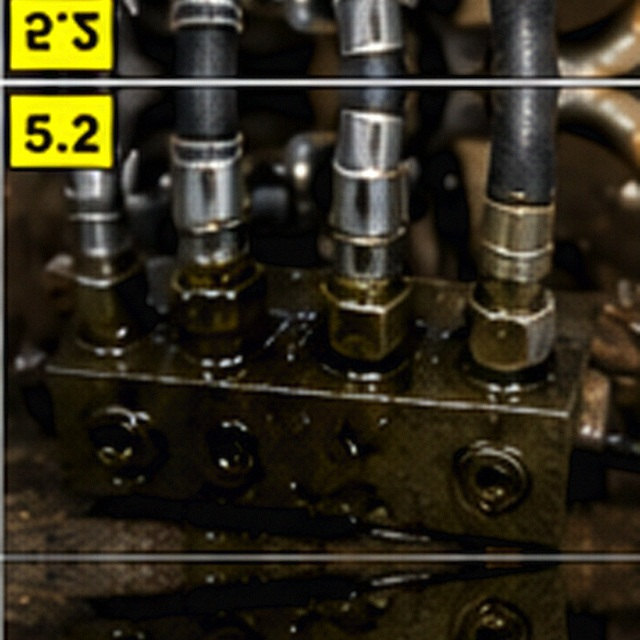hydraulic_oil_leak: (203, 206, 422, 448)
